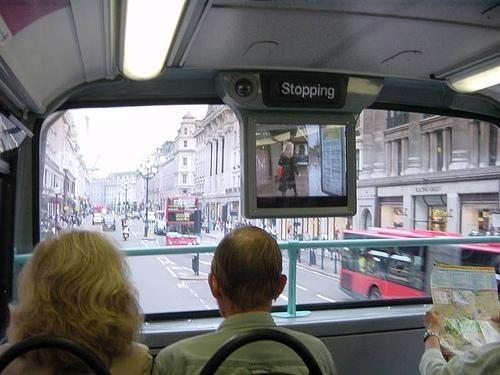bus: (340, 227, 500, 300), (164, 193, 202, 246)
car: (102, 216, 116, 231), (90, 210, 103, 226), (154, 220, 166, 235), (142, 211, 155, 223)
motorcycle: (122, 226, 129, 241)
